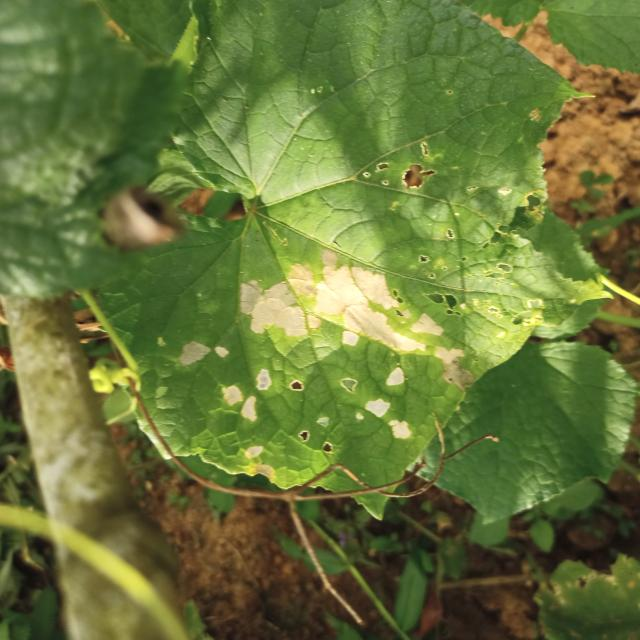disease_cucumber: (178, 244, 478, 476)
